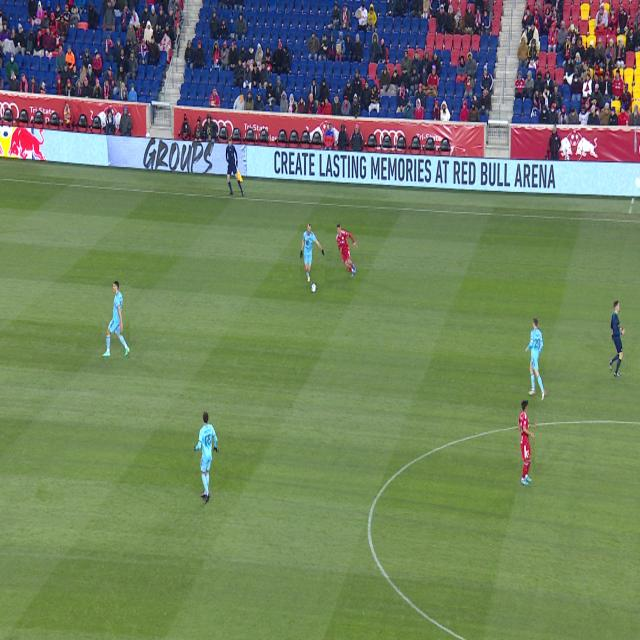football: (311, 283, 316, 292)
player: (194, 412, 218, 503), (102, 282, 130, 357), (526, 317, 546, 402), (300, 224, 325, 283), (519, 401, 535, 486), (336, 224, 357, 277)
referee: (609, 301, 625, 377)
